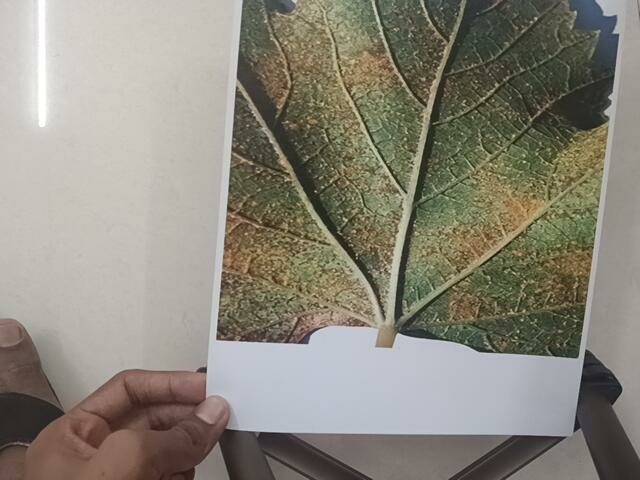Grape_Rust_Fungus: (237, 9, 579, 355)
